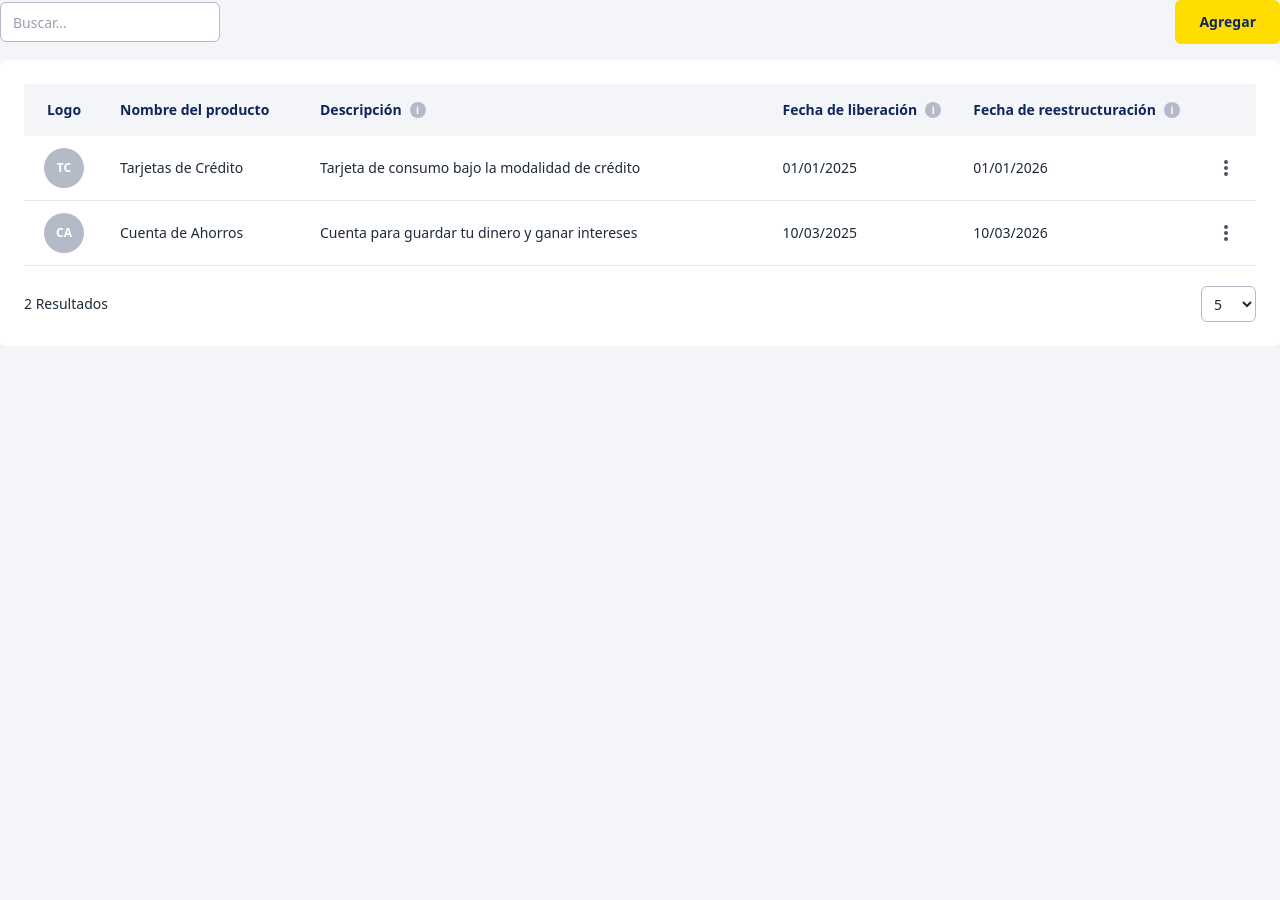
Test: ProductsComponent › menu de opciones › deberia limpiar el error anterior al volver a abrir el modal
Click the button named "Opciones de Tarjetas de Crédito" at (1226, 168), box top-left (1210, 152), bottom-right (1242, 184)
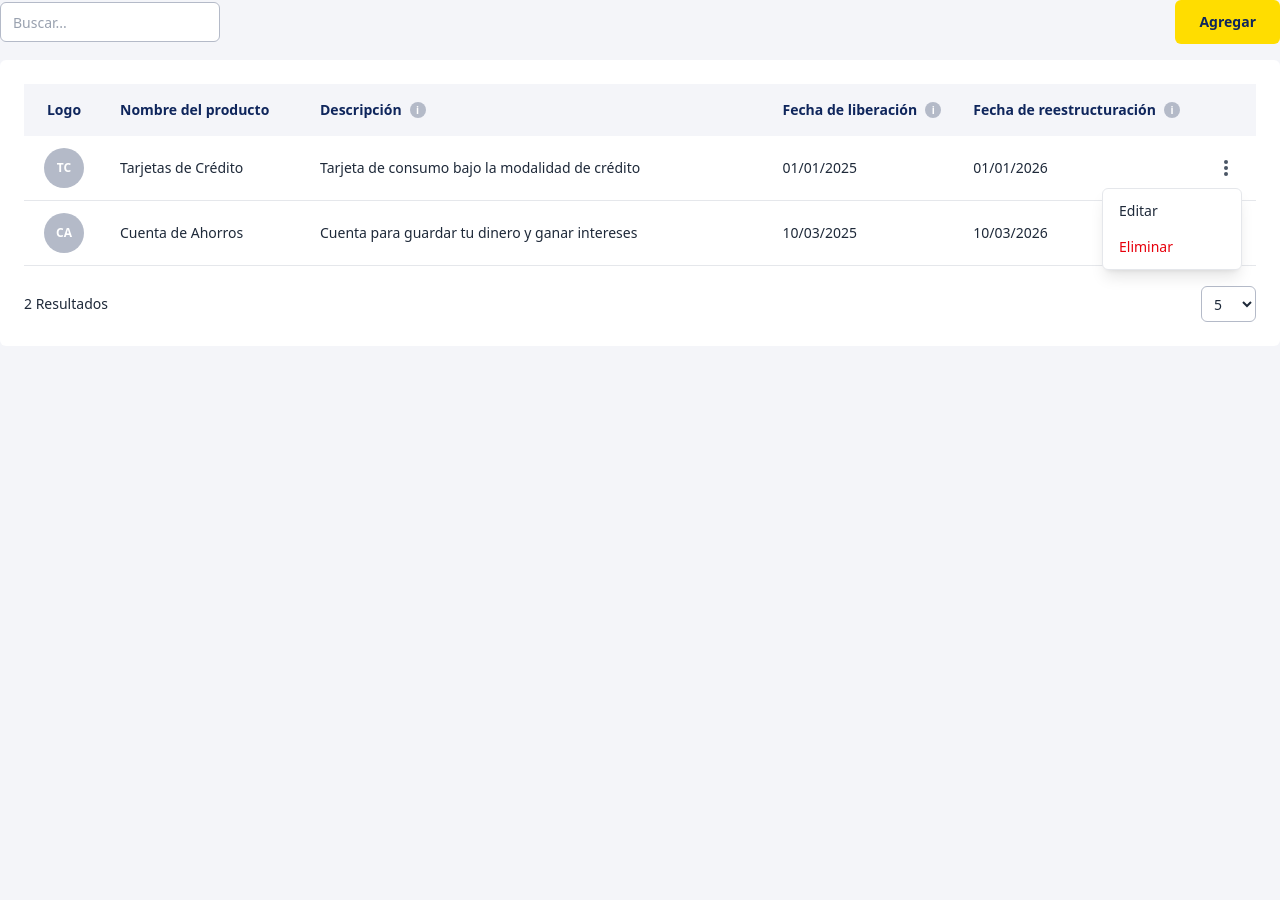
Click the menu item "Eliminar" at (1172, 247), box top-left (1103, 229), bottom-right (1241, 265)
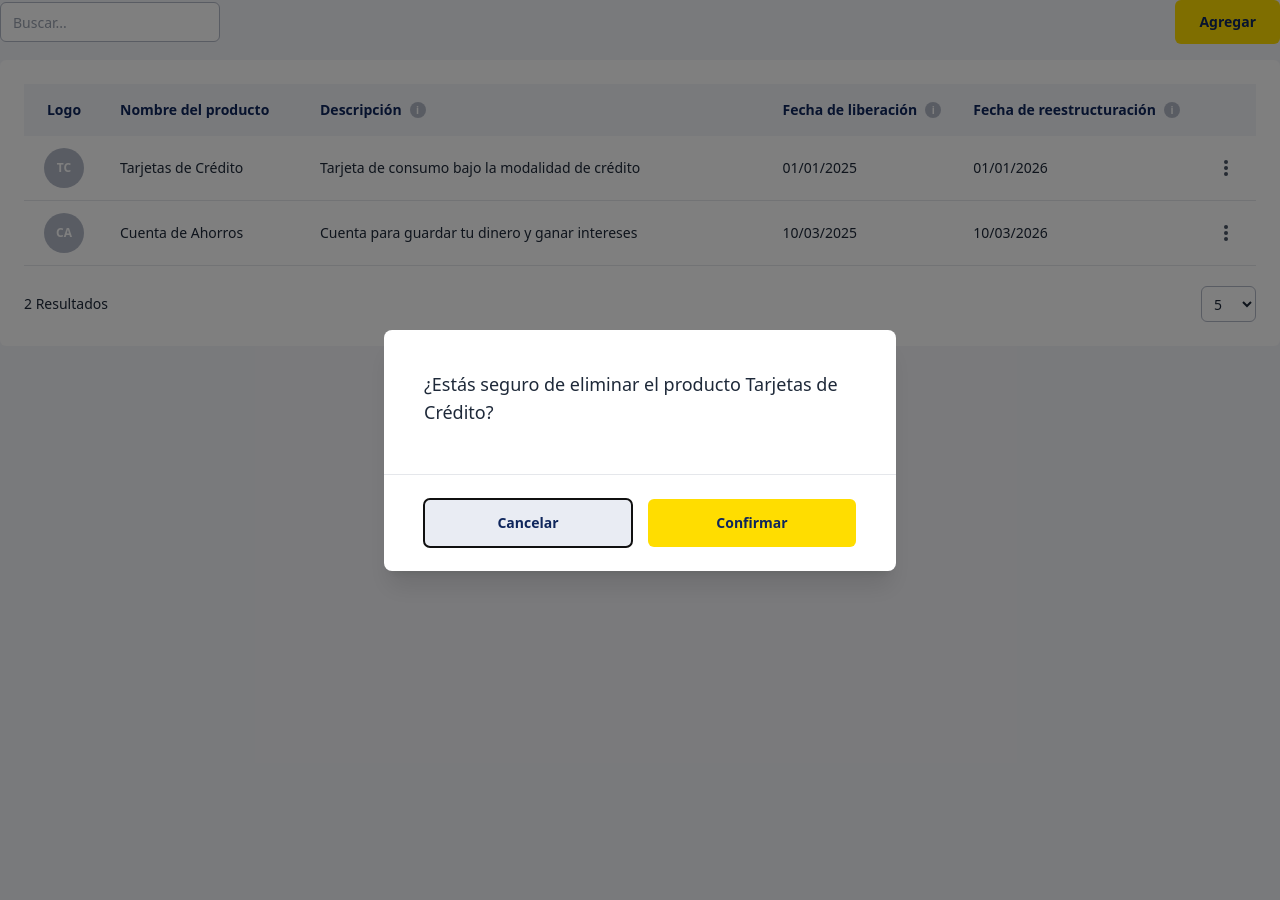
Click the button "Confirmar" at (752, 522), box top-left (648, 498), bottom-right (856, 546)
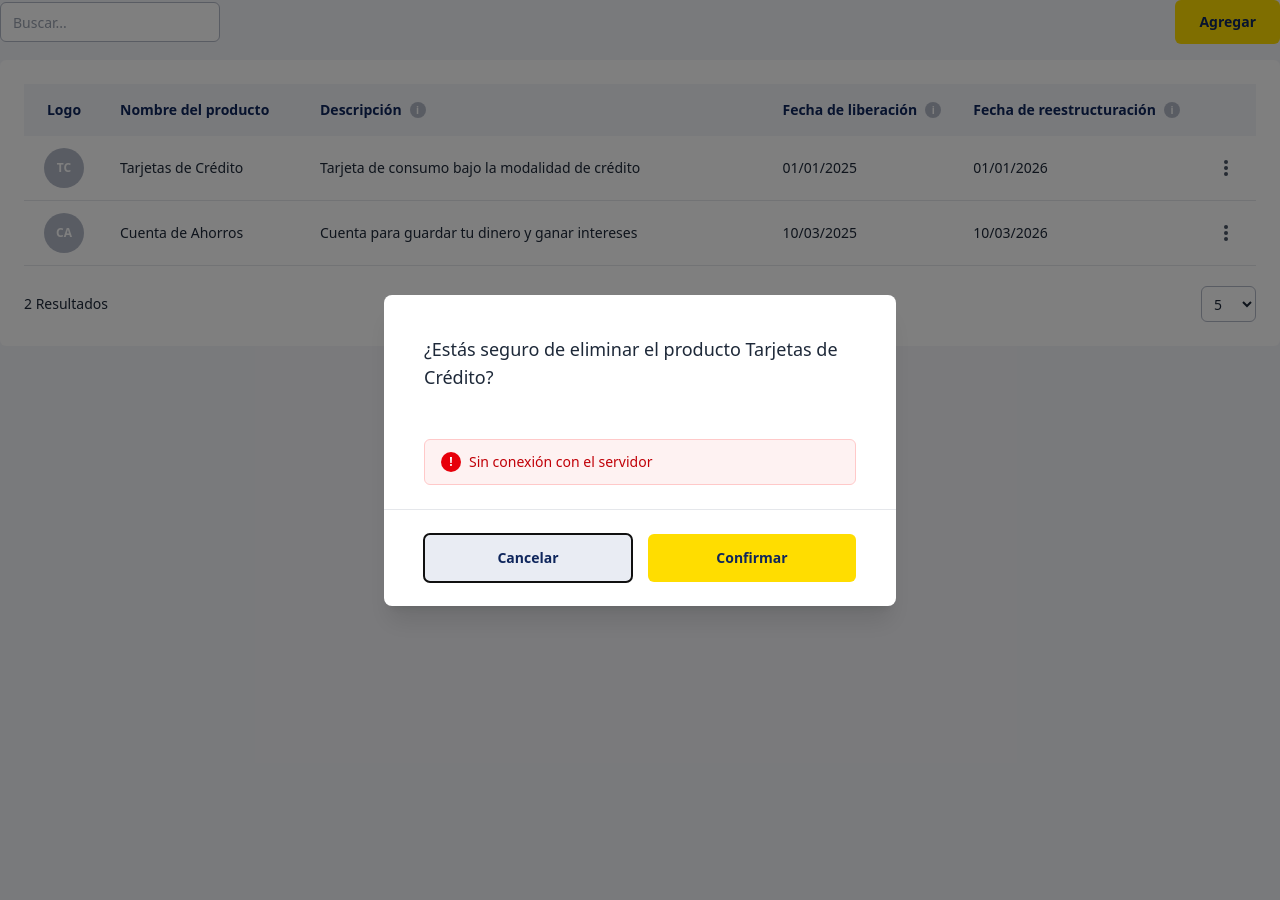
Click the button "Cancelar" at (528, 558), box top-left (424, 534), bottom-right (632, 582)
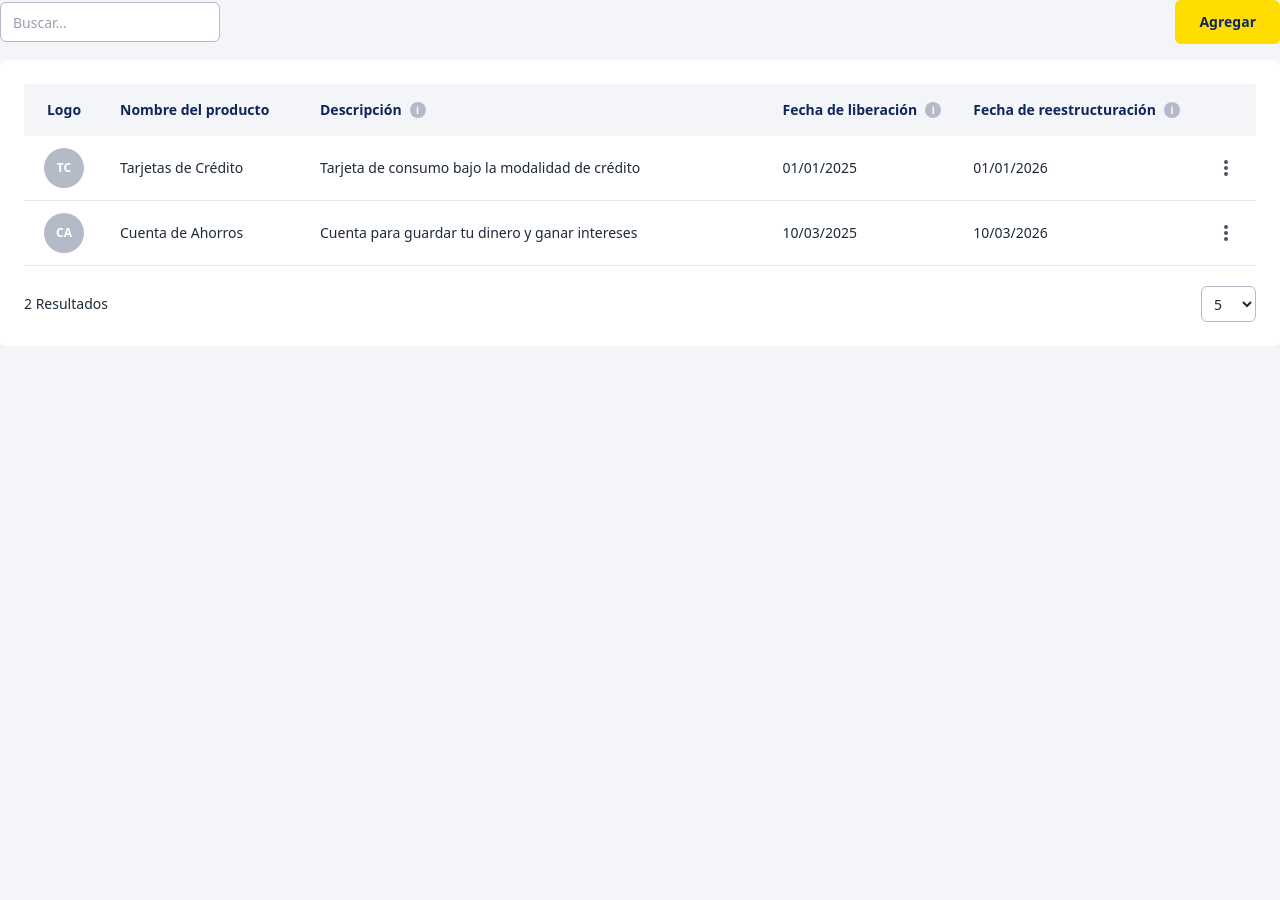
Click the button named "Opciones de Cuenta de Ahorros" at (1226, 233), box top-left (1210, 217), bottom-right (1242, 249)
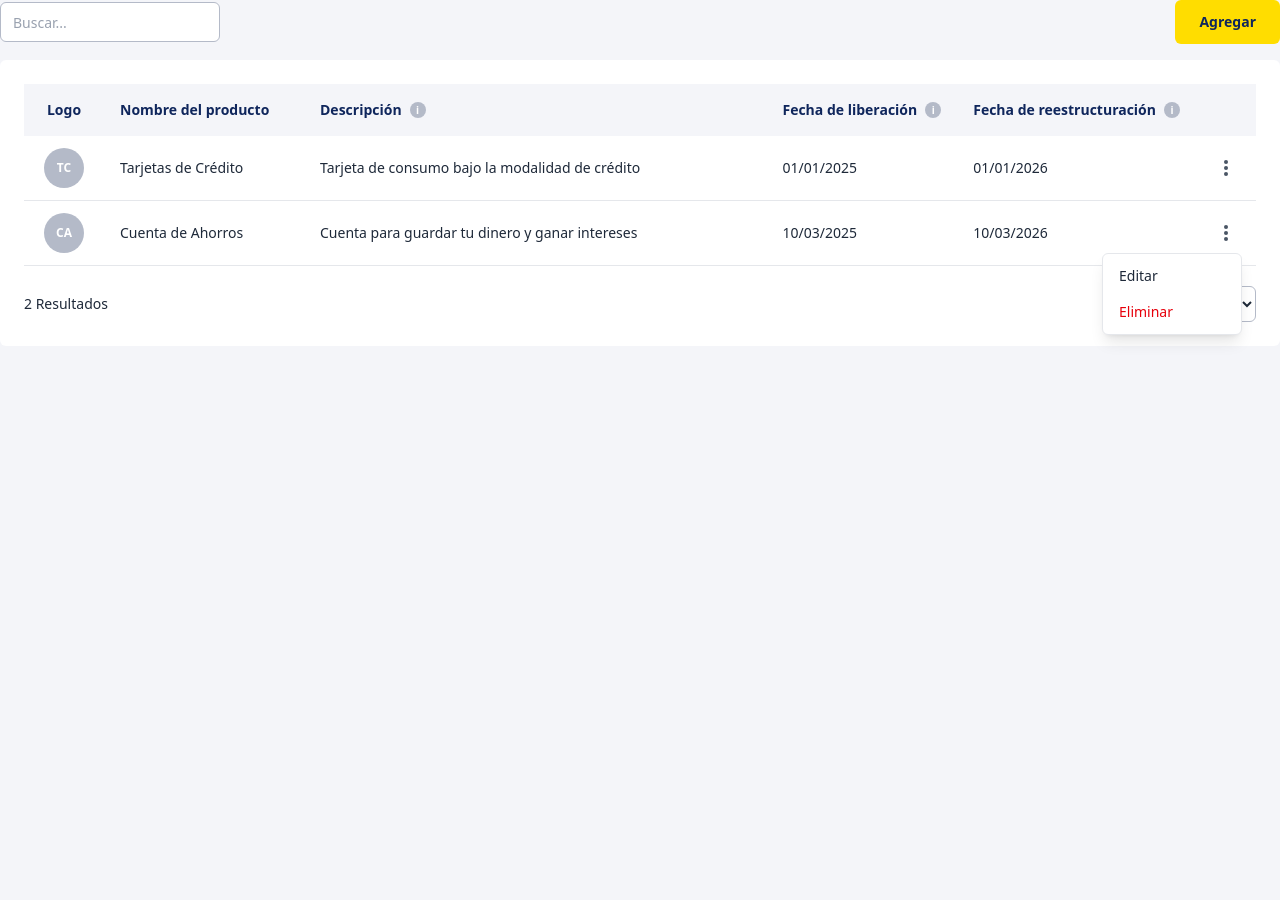
Click the menu item "Eliminar" at (1172, 312), box top-left (1103, 294), bottom-right (1241, 330)
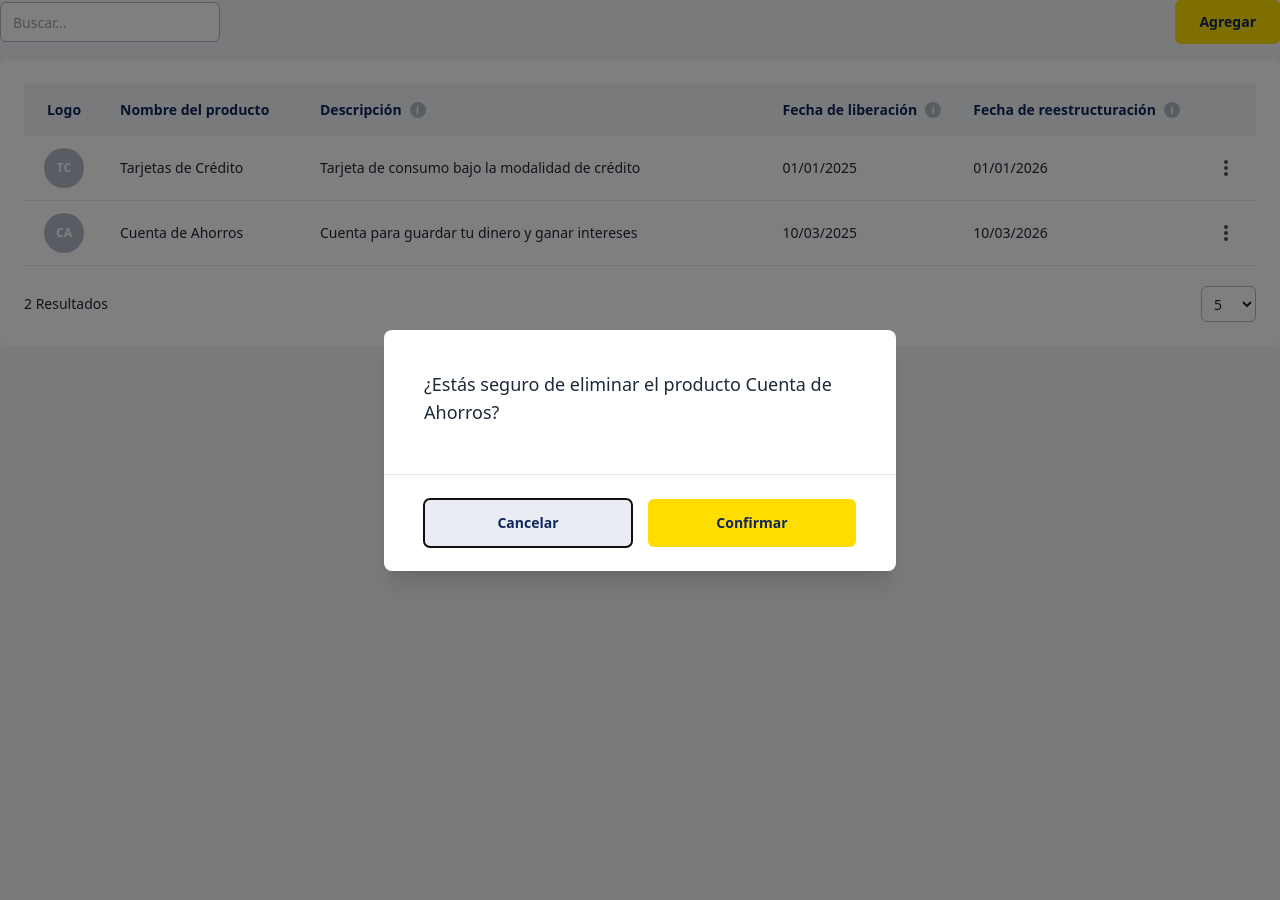
Expected: the message "! Sin conexión con el servidor" is not shown
Expected: the dialog shows "Cuenta de Ahorros", top-left (424, 372), bottom-right (832, 424)
